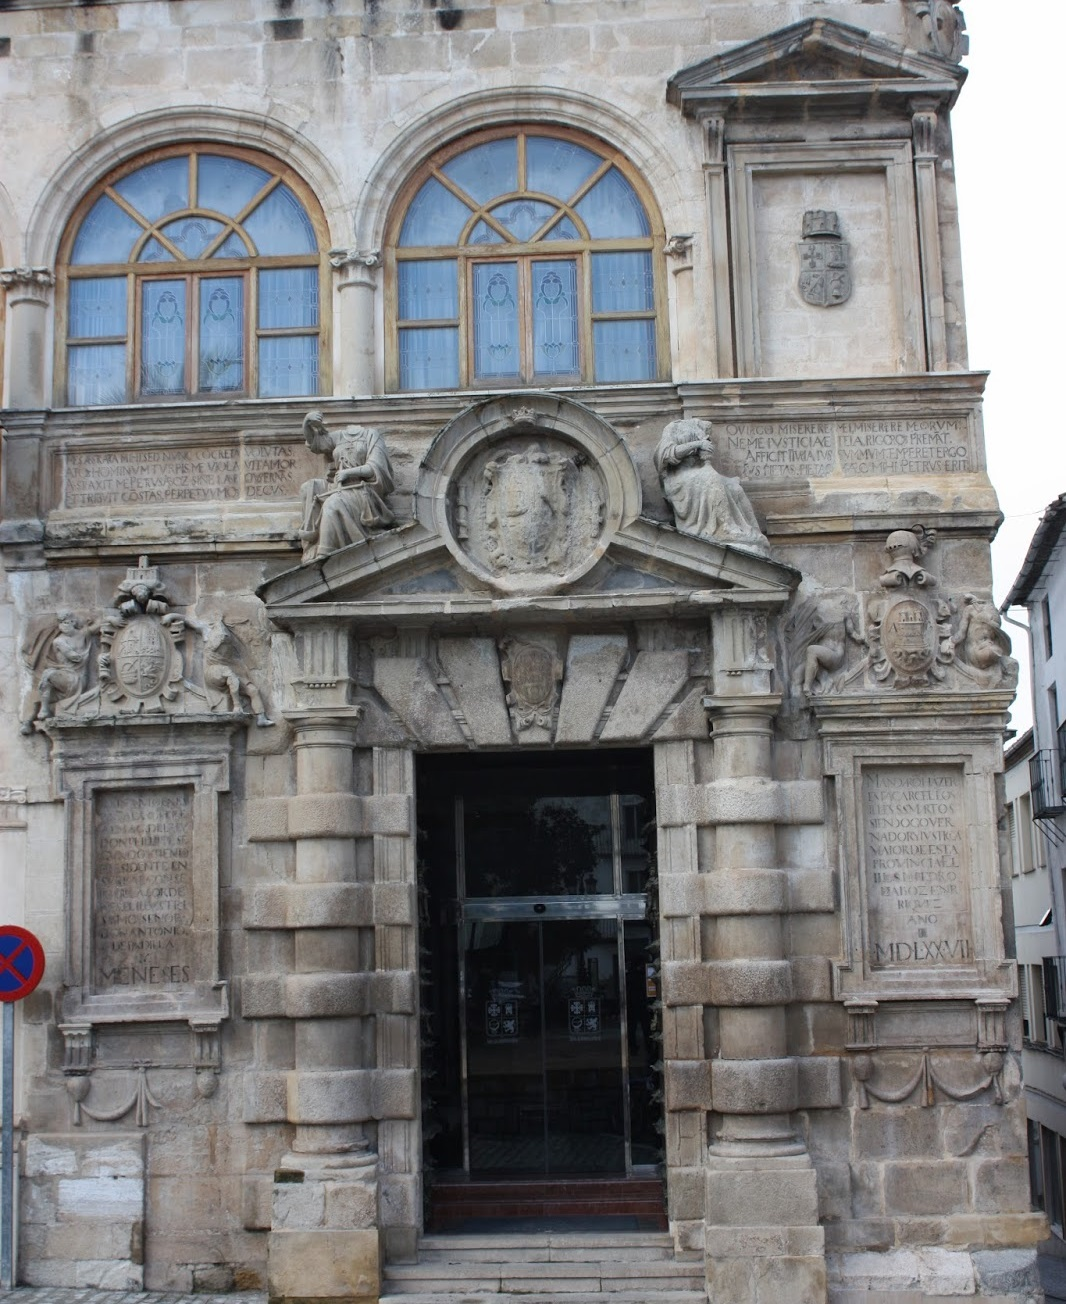arco-medio-punto: (356, 91, 692, 270), (35, 109, 344, 295)
fronton: (656, 12, 974, 114)
fronton-partido: (251, 495, 819, 637)
vano-adintelado: (353, 612, 712, 1264)
